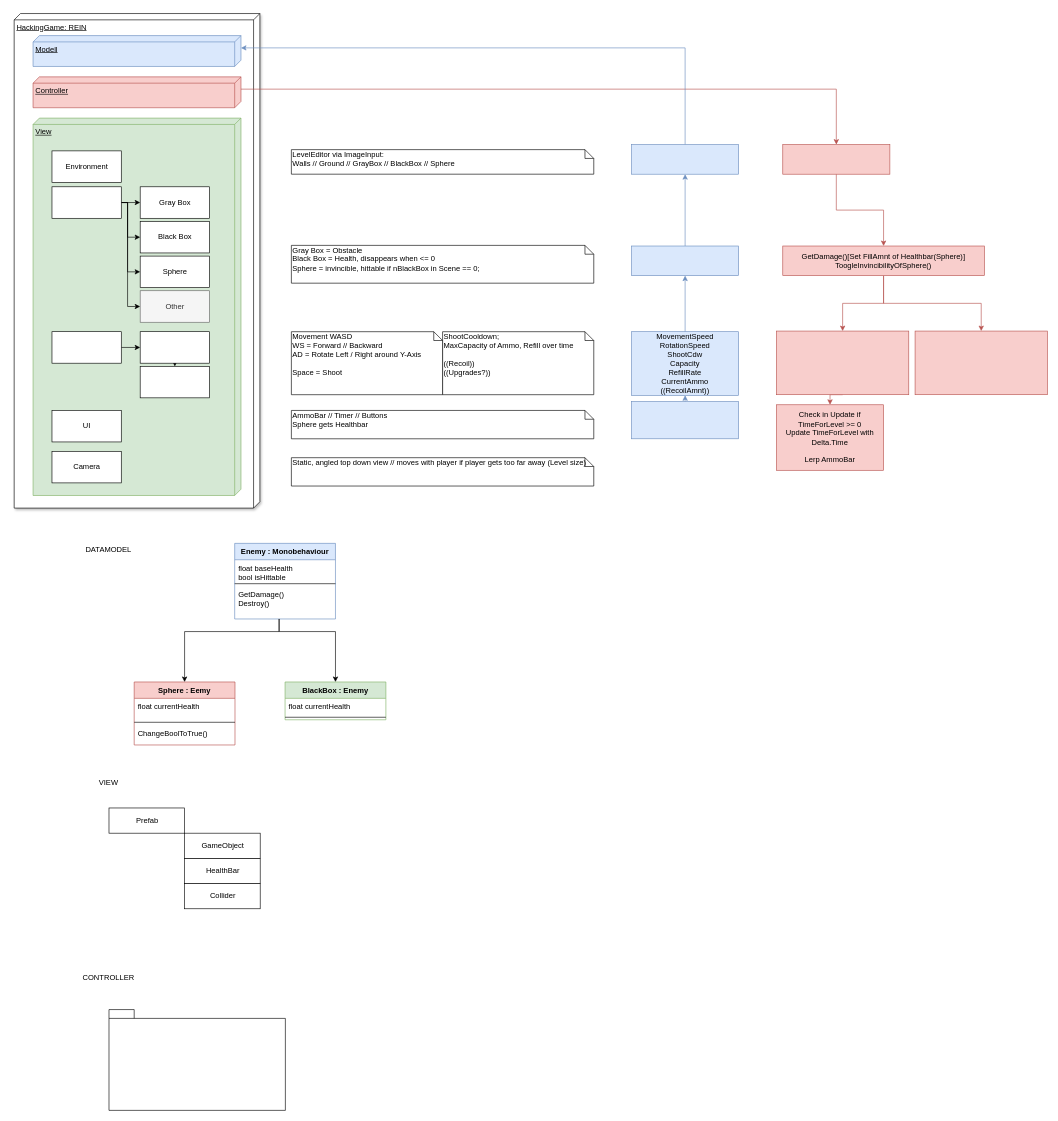
Some shapes in this 1058 by 1121 pixel diagram are drawn without their labels. Here are the shapes that lost their labels. From the top down, the centre of each, then its label:
point (685, 159): Image
point (836, 159): LevelEditor: Loop through Amnt of Pixels, depending on color instantiate prefabs
point (86, 202): Objects
point (685, 260): Health / BlackBox Health / Sphere isInvincible?
point (86, 347): Player
point (174, 347): Gun
point (842, 362): MapInputs() PlayerMovement(MovementSpeed) PLayerRotation(RotationSpeed)
point (980, 362): RefillAmmo(Capacity, RefillRate) SpawnBullet(CDW as long as CurrentAmmo >0)
point (174, 382): Bullets
point (685, 420): TimeForLevel
point (196, 1059): package
